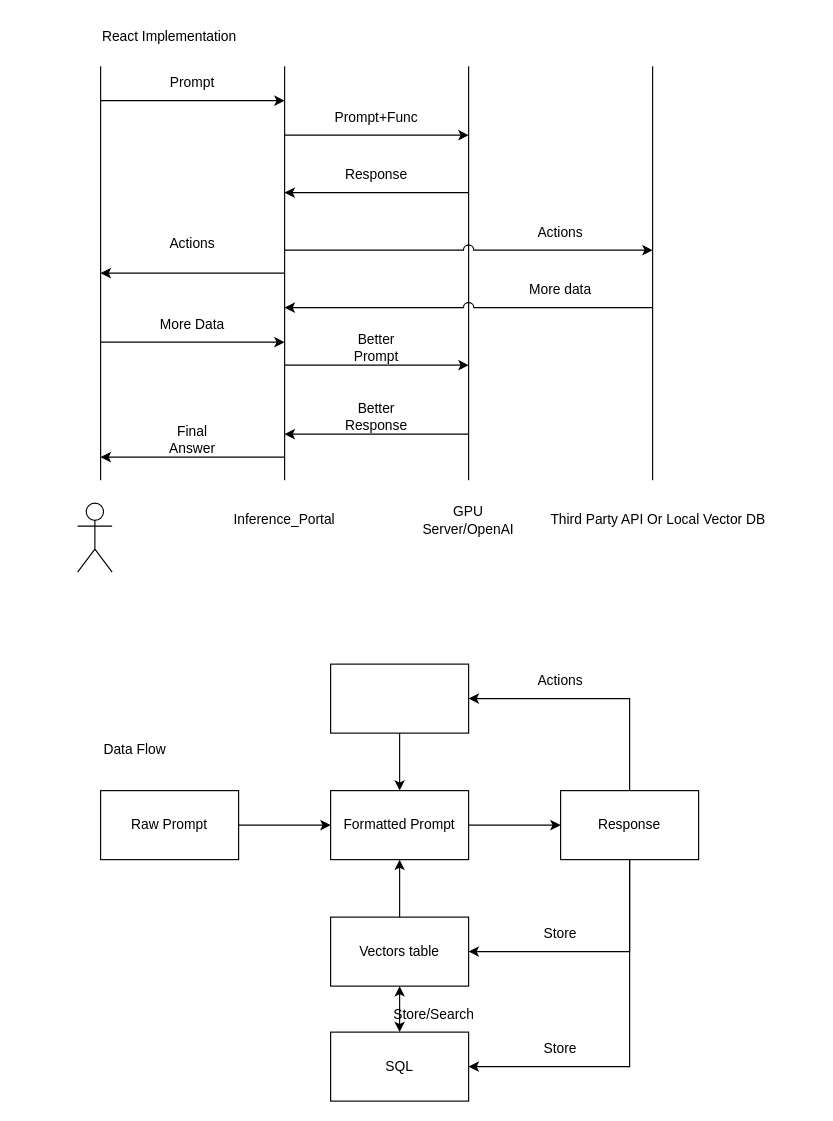
This 833x1121 diagram has some shape labels left out. Here are the shapes that lost their labels. From the top down, the centre of each, then its label:
At pixel 94 537: "Actor".
At pixel 399 698: "Additional Information from third party API".
